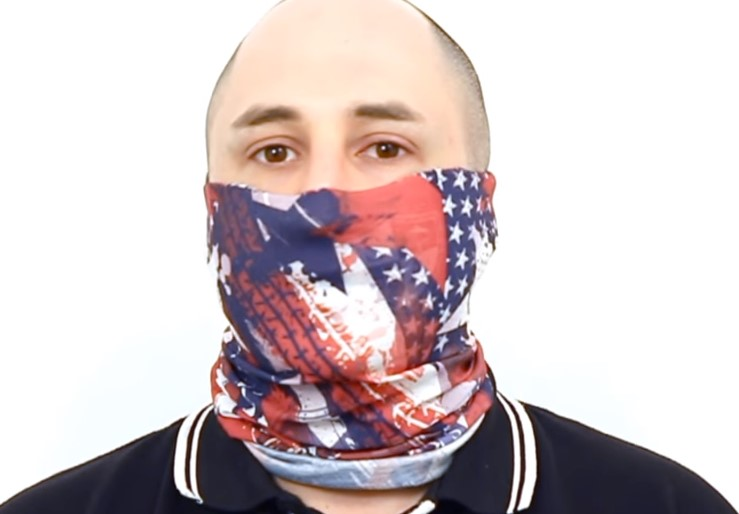face_with_mask: (200, 1, 492, 365)
